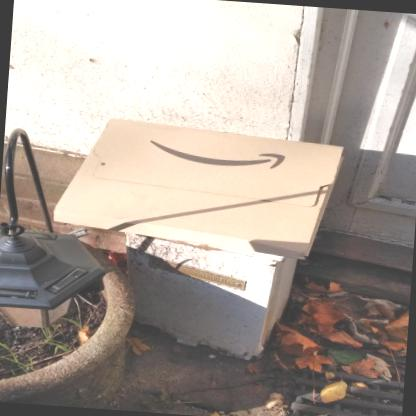box: (51, 116, 349, 259)
